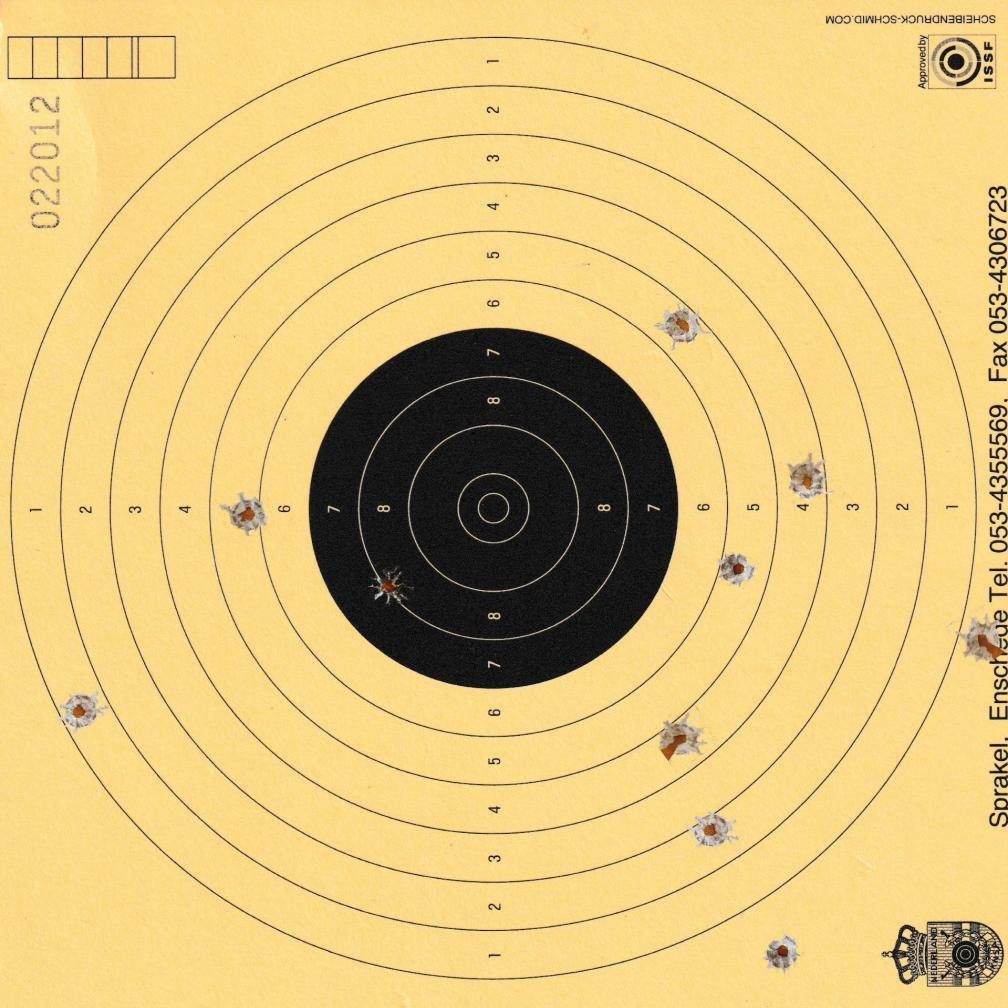0: (762, 934, 803, 970)
1: (957, 612, 1008, 665), (52, 691, 108, 733)
3: (690, 812, 741, 848)
4: (786, 457, 831, 501)
5: (649, 711, 709, 763), (654, 299, 716, 348)
6: (219, 491, 268, 537), (714, 552, 756, 588)
8: (369, 566, 412, 606)
Target: (6, 32, 983, 980)
black_contour: (312, 327, 680, 689)
